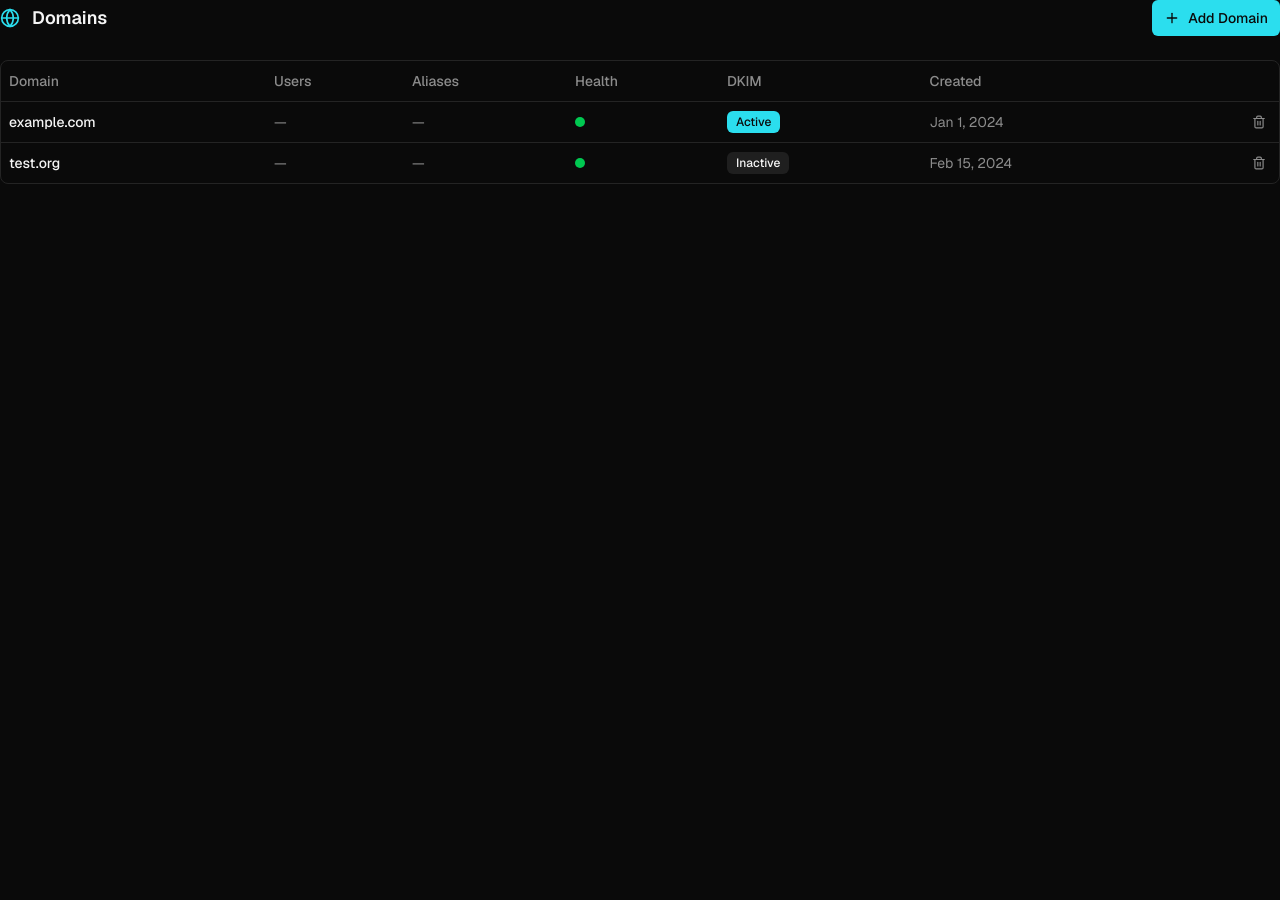
DomainsPage › opens add domain dialog on button click
Click the button with test id "add-domain-button" at (1216, 18), box [1152,0,1279,36]
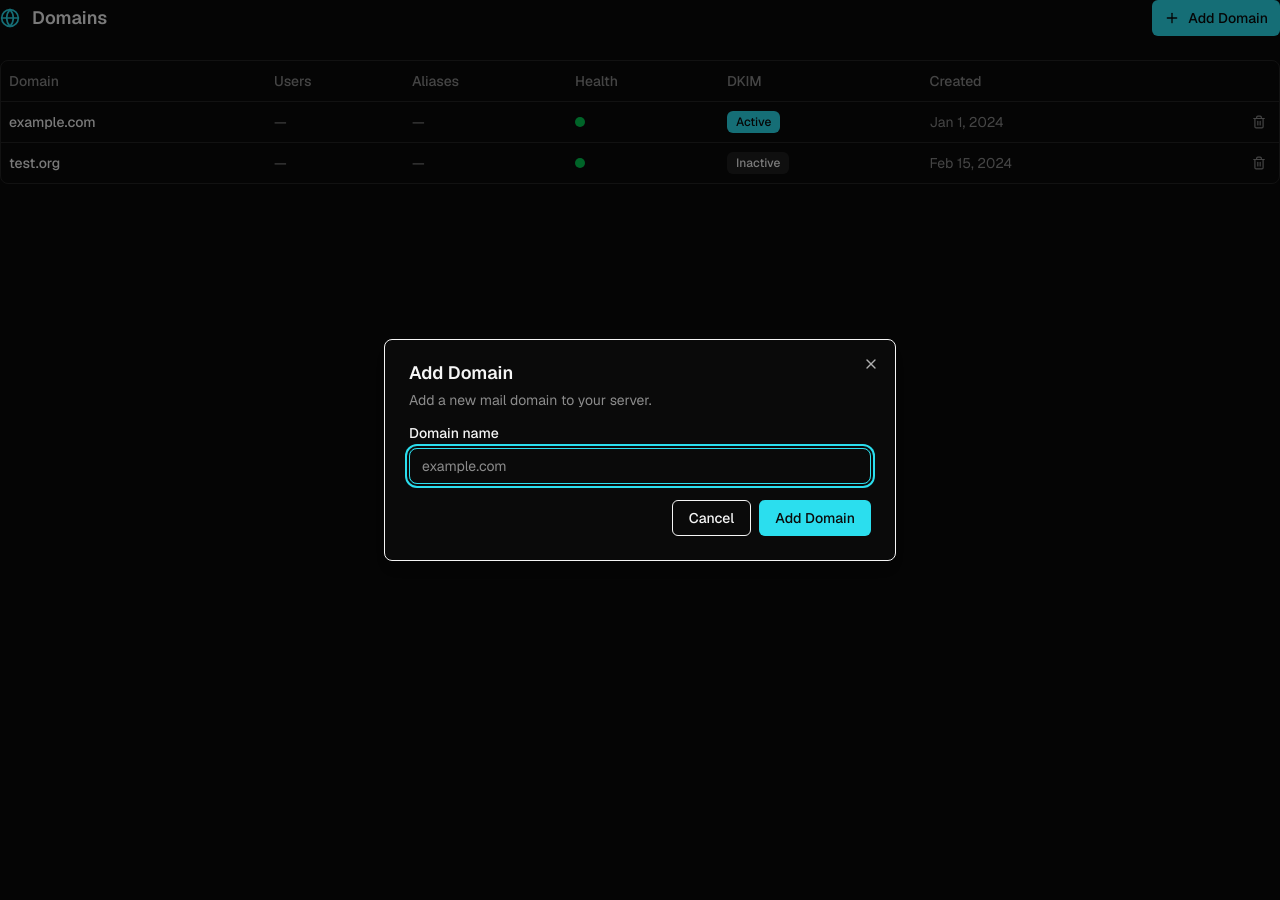
Now the dialog with test id "add-domain-dialog" is shown, box [384,339,896,561]
